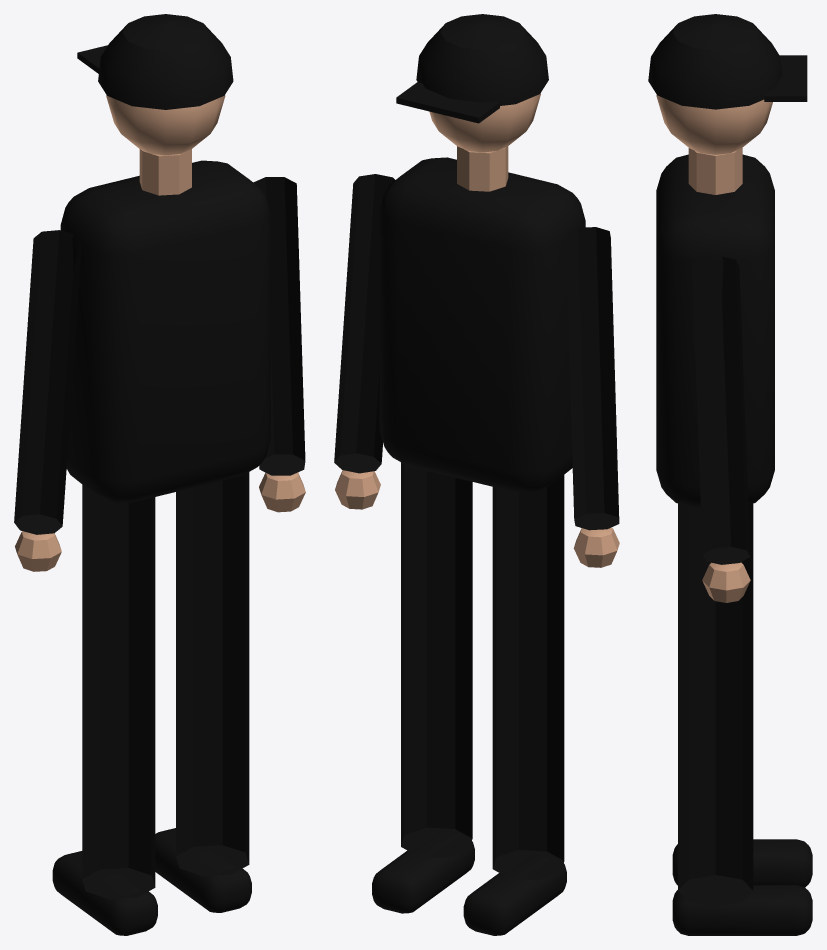
Rendered from people.staff.police_officer.glb.
The picture shows the model from 3 angles, left to right: view 1: azimuth 30°, elevation 25°; view 2: azimuth 150°, elevation 25°; view 3: azimuth 270°, elevation 25°; orthographic projection. The views are drawn at different scales.
Parts seen in each view (by area): view 1: main__plastic_black, main__skin; view 2: main__plastic_black, main__skin; view 3: main__plastic_black, main__skin.
Boxes of the visible parts, bbox=[...] form: main__plastic_black: bbox=[14, 14, 305, 935]; main__skin: bbox=[15, 95, 305, 571]; main__plastic_black: bbox=[334, 14, 619, 935]; main__skin: bbox=[335, 93, 619, 567]; main__plastic_black: bbox=[648, 14, 812, 935]; main__skin: bbox=[656, 95, 772, 602].
Bounding box in the file's own units: 0.61 × 1.81 × 0.305.
